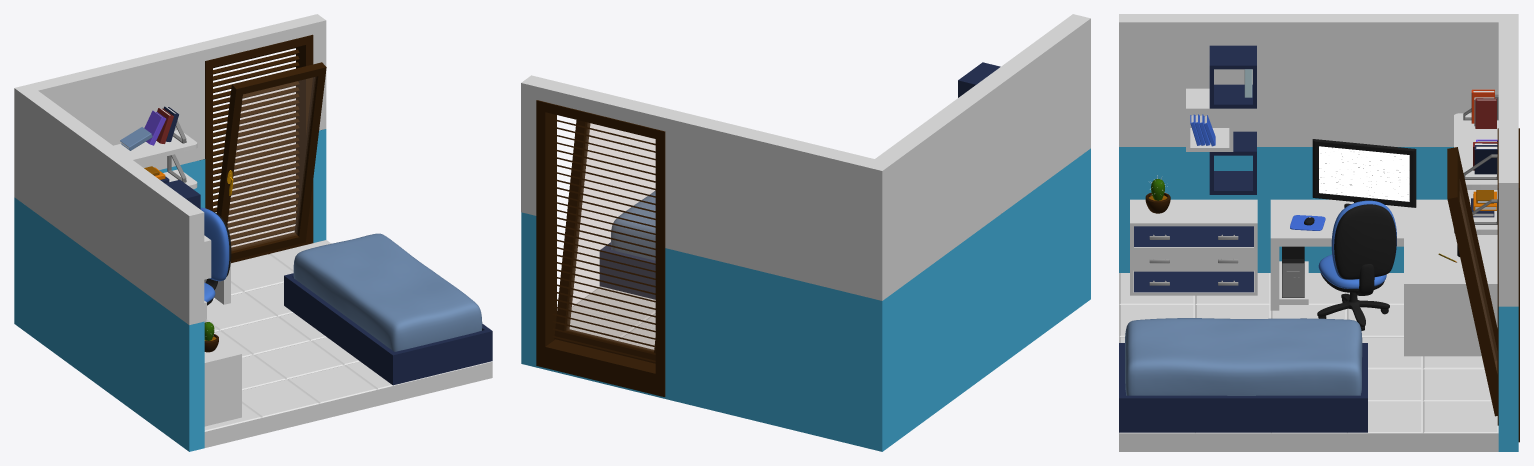
Rendered from isometric_room.gltf.
The picture shows the model from 3 angles, left to right: view 1: azimuth 30°, elevation 25°; view 2: azimuth 150°, elevation 25°; view 3: azimuth 270°, elevation 25°; orthographic projection. The views are drawn at different scales.
Parts seen in each view (by area): view 1: Cube.002, Cube, Cube.020, Cube.022, Cube.021, Cube.010, Cube.003, Cube.019, Cube.014, Cube.052, Cube.042, Cube.028 (+2 smaller); view 2: Cube.002, Cube.022, Cube.019, Cube.021, Cube.003, Cube, Cube.010, Cube.020, Cube.001; view 3: Cube.002, Cube, Cube.020, Cube.024, Cube.014, Cube.010, Cube.052, Cube.001, Cube.003, Cube.023, Cube.042, Cube.013 (+7 smaller).
Boxes of the visible parts, x1,y1,x2,y2 form: Cube.002: (14,14,326,451); Cube: (204,240,492,447); Cube.020: (293,233,482,351); Cube.022: (227,77,315,250); Cube.021: (213,46,299,245); Cube.010: (284,273,492,385); Cube.003: (216,62,326,260); Cube.019: (200,34,313,262); Cube.014: (204,337,241,426); Cube.052: (200,207,231,305); Cube.042: (120,106,178,183); Cube.028: (113,130,197,163); Cube.002: (521,14,1090,451); Cube.022: (567,123,655,350); Cube.019: (536,100,665,396); Cube.021: (552,119,655,362); Cube.003: (554,120,655,363); Cube: (569,286,655,349); Cube.010: (599,242,655,299); Cube.020: (611,190,655,260); Cube.001: (958,62,1000,97); Cube.002: (1119,14,1518,451); Cube: (1119,273,1498,451); Cube.020: (1125,318,1362,395); Cube.024: (1270,199,1497,356); Cube.014: (1130,199,1257,295); Cube.010: (1119,343,1367,432); Cube.052: (1317,200,1396,326); Cube.001: (1186,45,1256,194); Cube.003: (1447,147,1497,416); Cube.023: (1319,146,1409,201); Cube.042: (1190,69,1497,217); Cube.013: (1312,139,1416,207).
Size of the model in its own units: 200 by 149 by 201.
